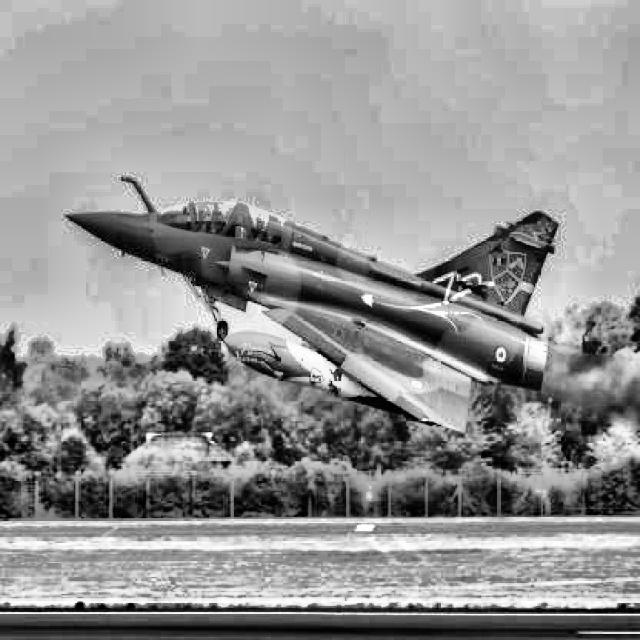Mirage2000: (64, 175, 559, 432)
